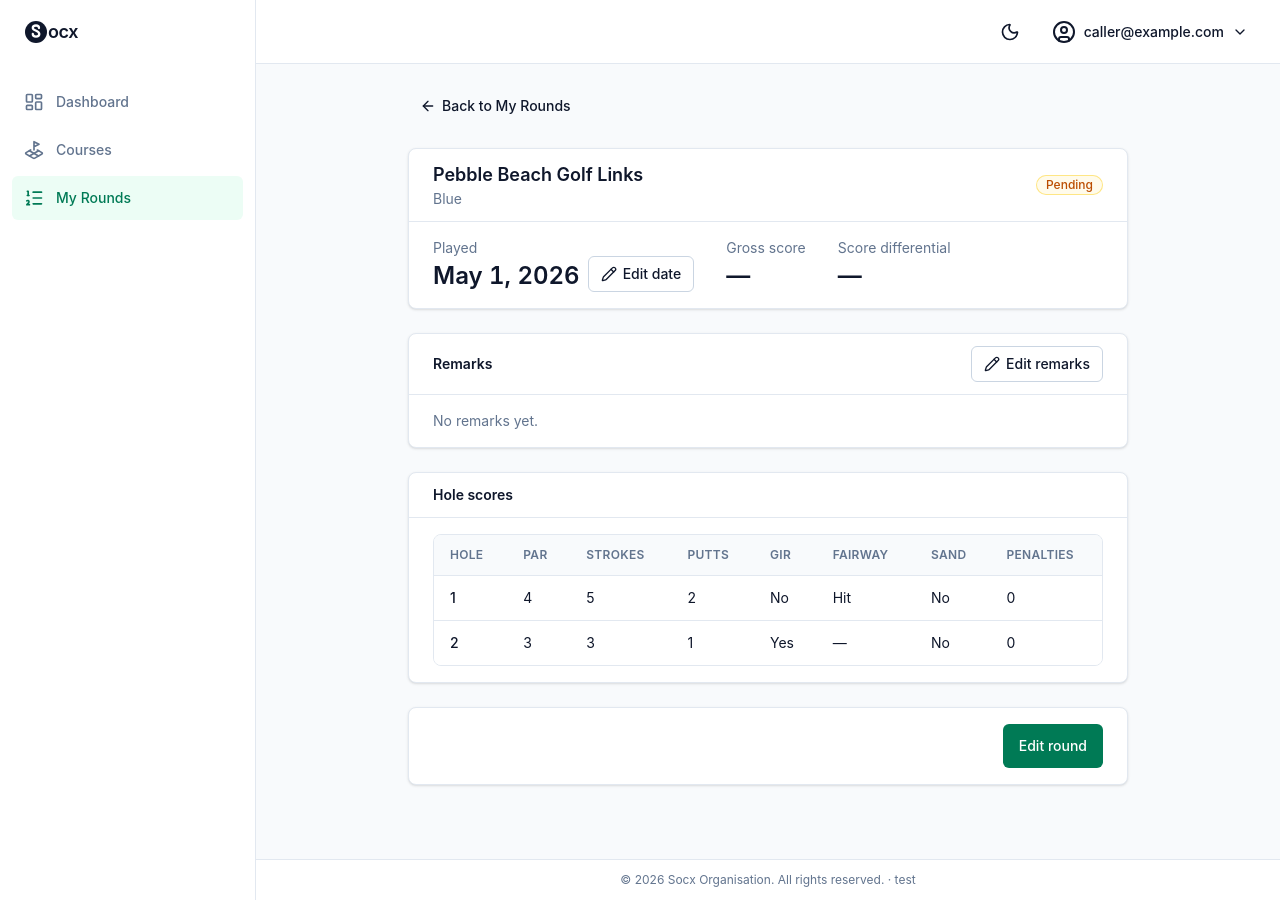
RoundDetailsPage › changes a pending round's played date and reflects it after refetch
Expected: the text "Blue" is shown, [433,190,462,207]
Expected: the text "May 1, 2026" is shown, [433,260,580,292]
Click the button "Edit date" at (641, 274), box [588,256,694,292]
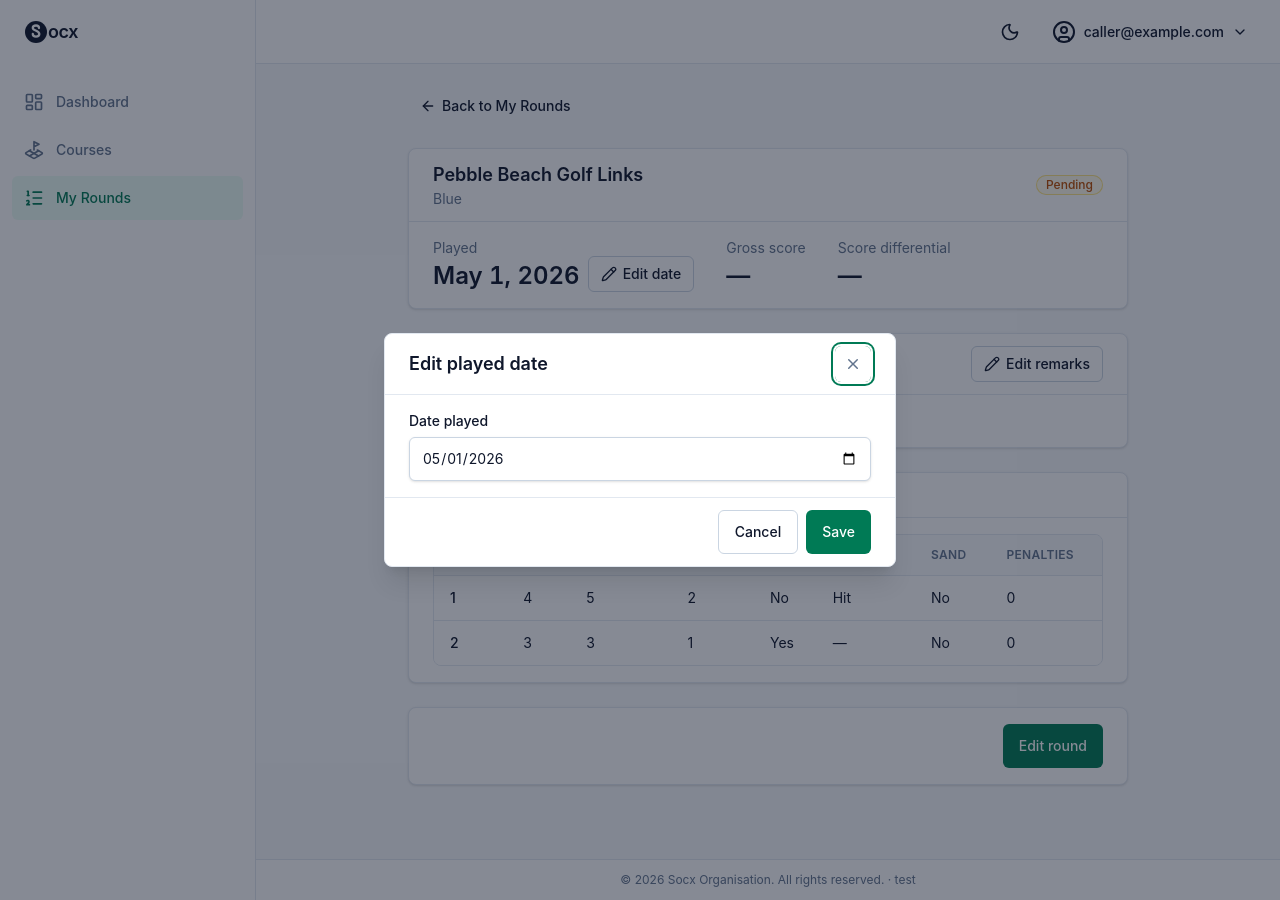
Type "2026-06-15" into the date field labelled "Date played" at (640, 459), box [409,437,871,481]
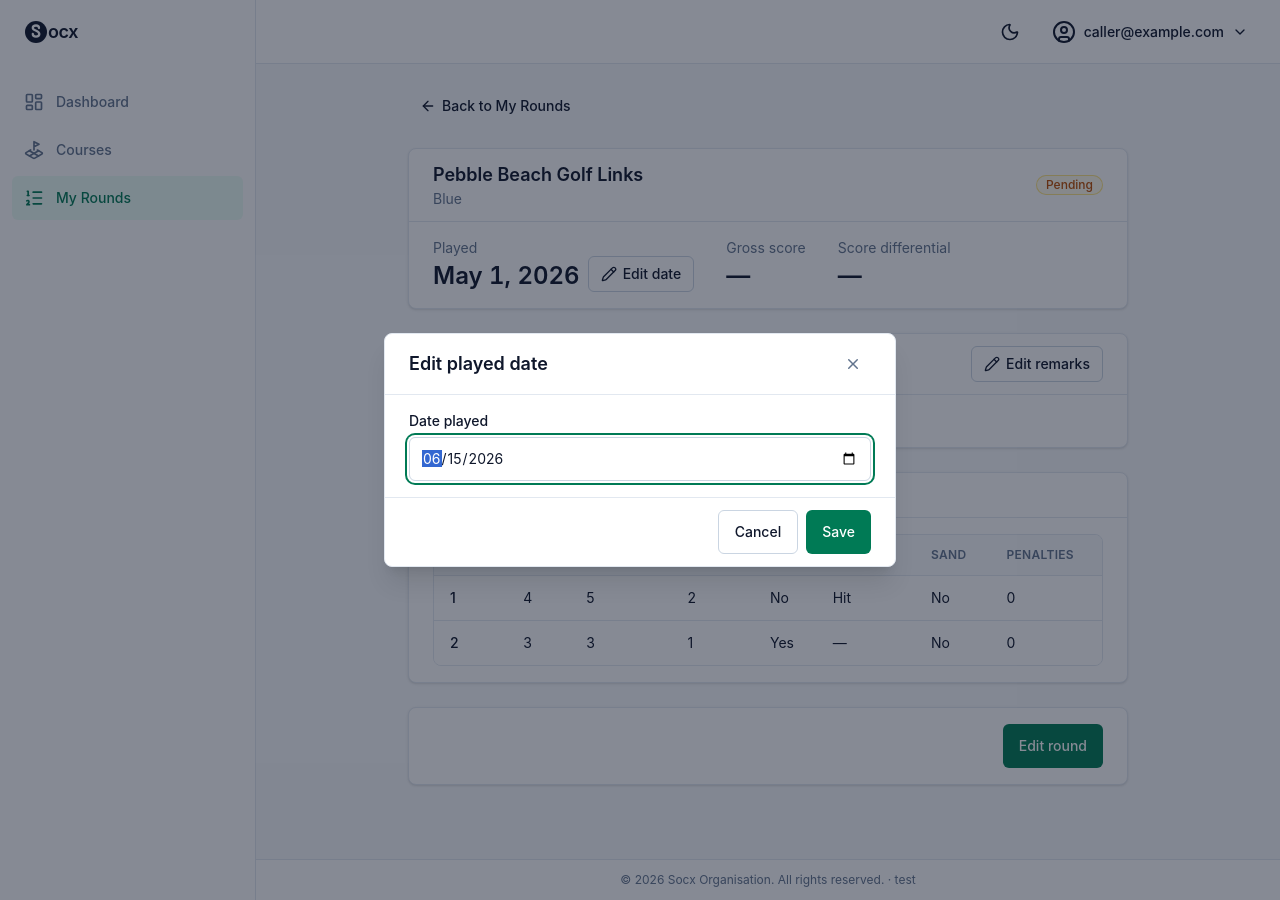
Click the button "Save" at (839, 532), box [806,510,871,554]
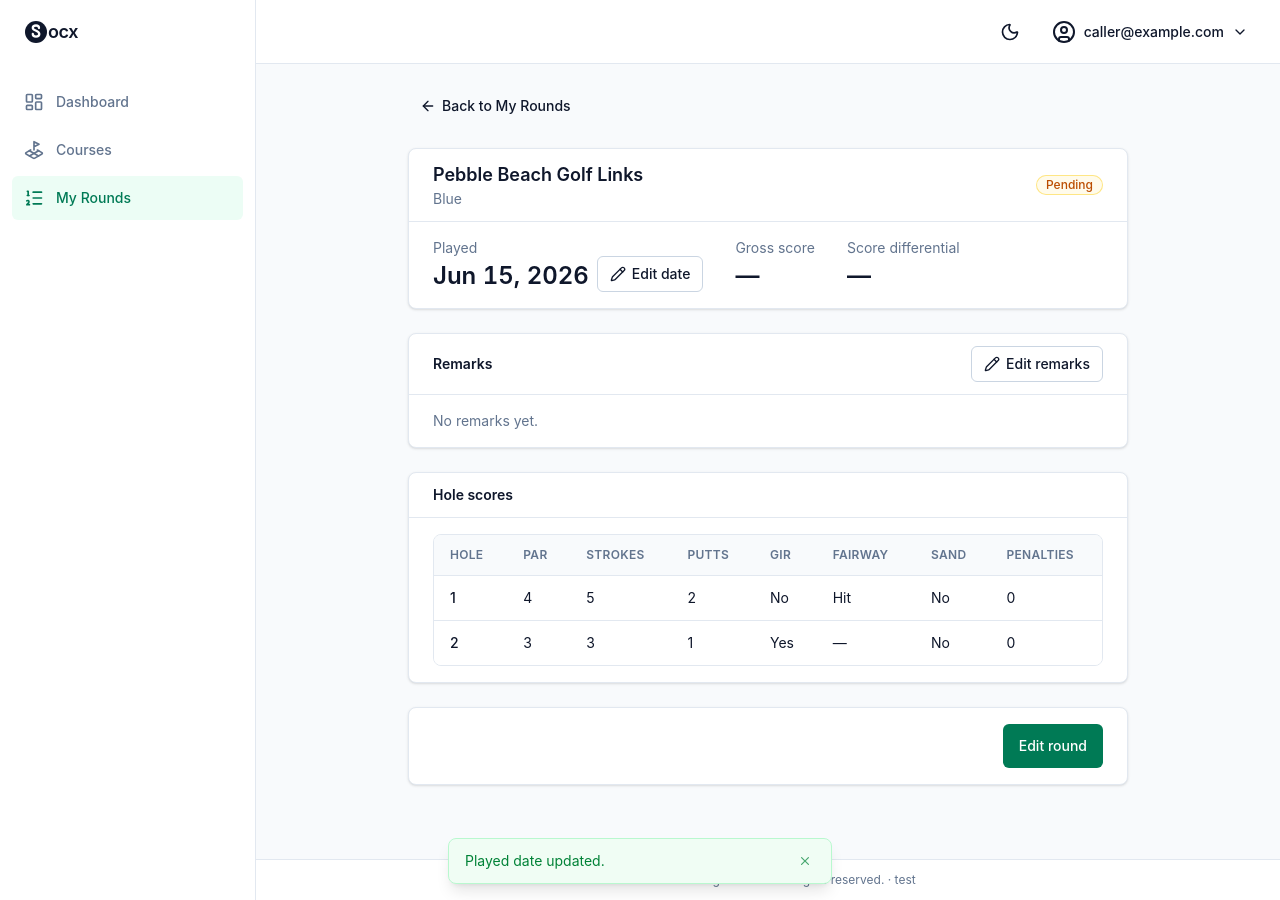
Result: the text "Jun 15, 2026" is shown at [433,260,589,292]
